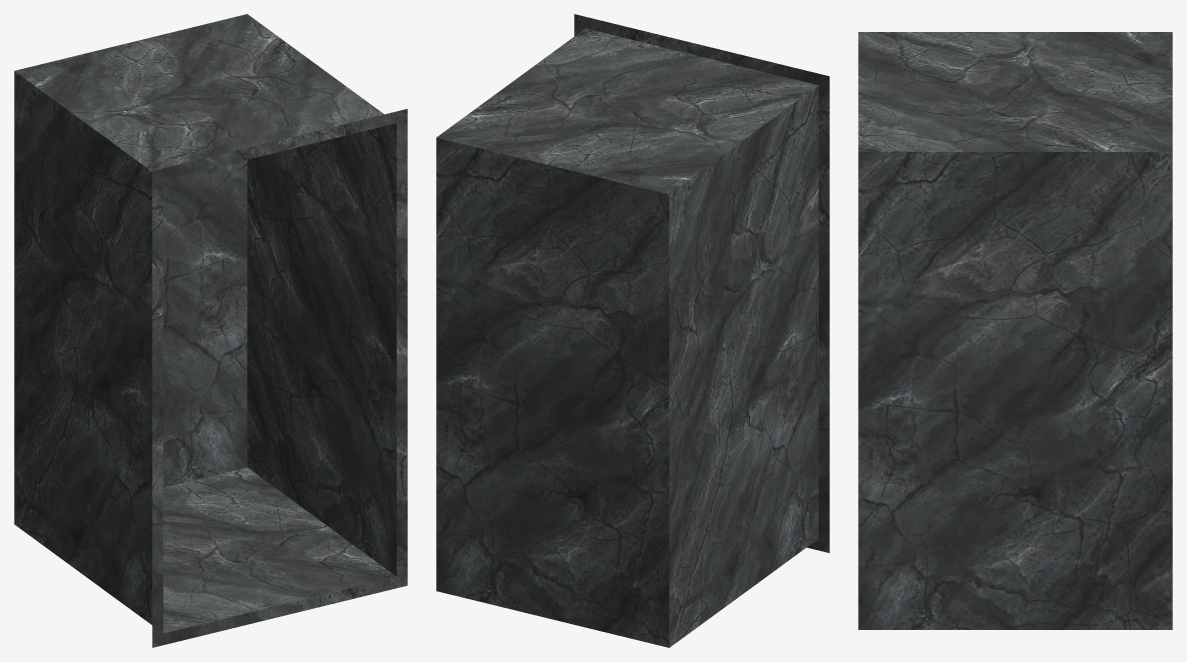
The model's file is TheBox.glb.
3 renders of one model, left to right at view 1: azimuth 30°, elevation 25°; view 2: azimuth 150°, elevation 25°; view 3: azimuth 270°, elevation 25°, orthographic. The views are drawn at different scales.
Visible parts, largest first — view 1: TheBox_Open; view 2: TheBox_Open; view 3: TheBox_Open.
Part boxes in pixels (x1,y1,x2,y2): TheBox_Open: [14, 14, 407, 647]; TheBox_Open: [436, 14, 829, 647]; TheBox_Open: [858, 32, 1172, 629].
Bounding box in the file's own units: 11.5 × 20.5 × 11.63.
1 material, 1 textured.
